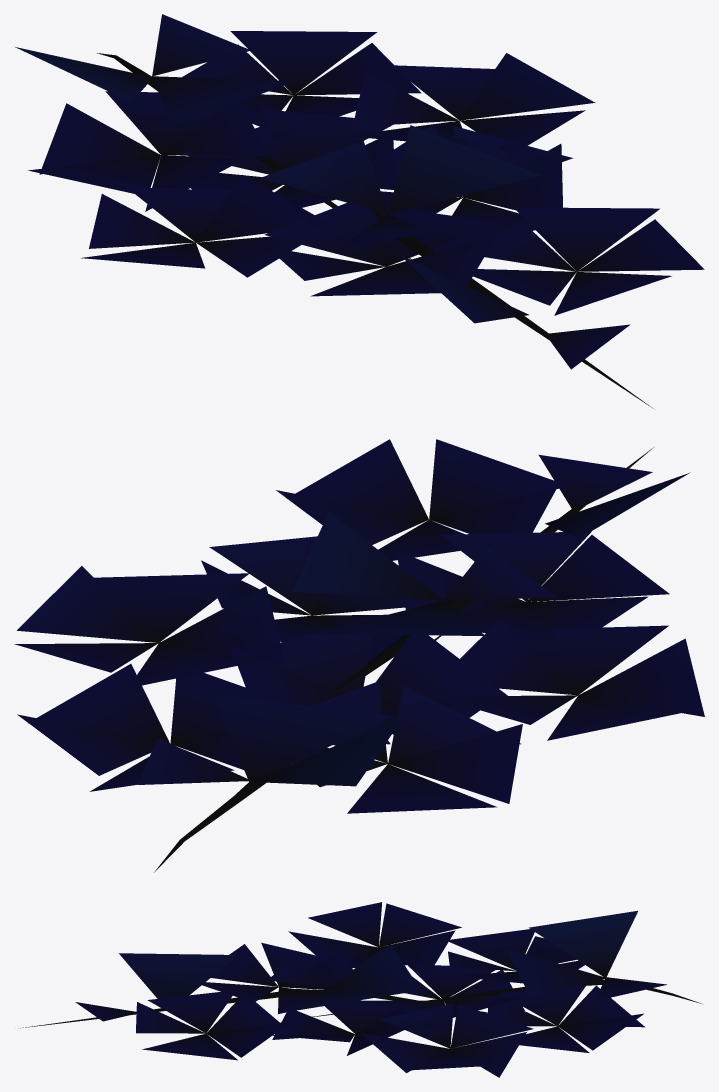
Rendered from TSI_Plant_14A.fbx.
The picture shows the model from 3 angles, top to bottom: view 1: azimuth 30°, elevation 25°; view 2: azimuth 150°, elevation 25°; view 3: azimuth 270°, elevation 25°; orthographic projection. The views are drawn at different scales.
Parts seen in each view (by area): view 1: TSI_Plant_14A_LOD0; view 2: TSI_Plant_14A_LOD0; view 3: TSI_Plant_14A_LOD0.
Part boxes in pixels (<box>): TSI_Plant_14A_LOD0: <box>15,14,704,408</box>; TSI_Plant_14A_LOD0: <box>14,439,704,872</box>; TSI_Plant_14A_LOD0: <box>18,902,701,1077</box>.
Bounding box in the file's own units: 151 × 21.49 × 247.
